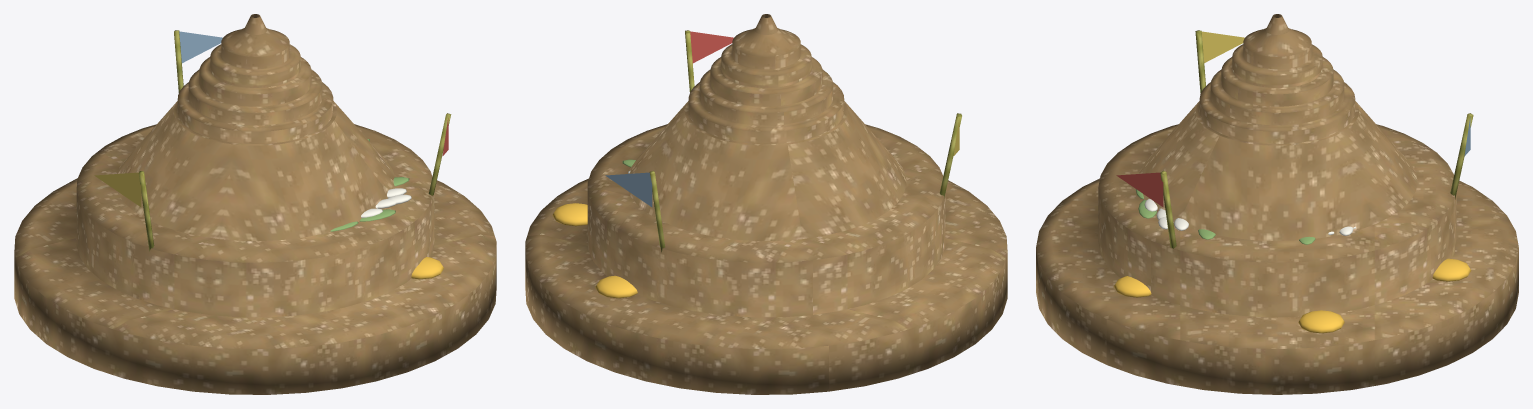
File: gourd-prop-small-stupa-b.glb
3 renders of one model, left to right at view 1: azimuth 30°, elevation 25°; view 2: azimuth 150°, elevation 25°; view 3: azimuth 270°, elevation 25°, orthographic.
Visible parts, largest first — view 1: sand, poles, flag1, flag2, frangipani, marigolds, leaves; view 2: sand, marigolds, poles, flag2, flag0; view 3: sand, marigolds, poles, flag0, flag1, frangipani, leaves.
Part boxes in pixels (box(x1,y1,x2,y2)): sand: box(14, 14, 496, 394); poles: box(138, 30, 451, 251); flag1: box(94, 172, 141, 207); flag2: box(179, 31, 222, 63); frangipani: box(361, 188, 411, 217); marigolds: box(411, 257, 443, 279); leaves: box(330, 139, 409, 231); sand: box(525, 14, 1007, 394); marigolds: box(552, 203, 637, 298); poles: box(649, 30, 961, 252); flag2: box(605, 172, 652, 207); flag0: box(690, 31, 733, 63); sand: box(1036, 14, 1518, 394); marigolds: box(1114, 258, 1471, 333); poles: box(1160, 30, 1473, 248); flag0: box(1116, 172, 1163, 206); flag1: box(1201, 31, 1244, 62); frangipani: box(1144, 199, 1355, 235); leaves: box(1136, 189, 1315, 244).
Size of the model in its own units: 0.0594 by 0.0376 by 0.0594.
8 materials, 2 textured.
